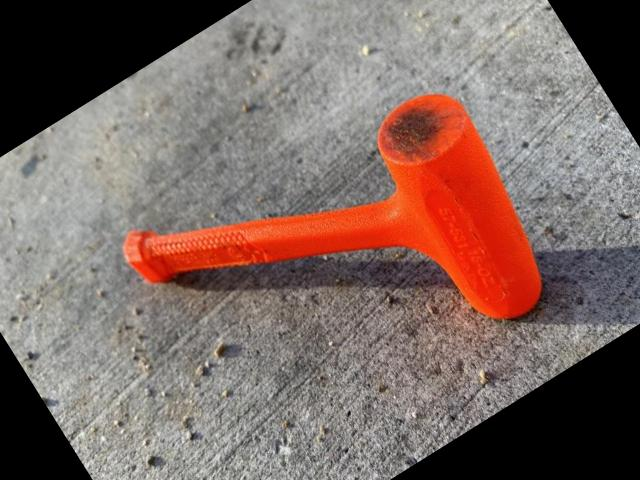hammer: (111, 41, 574, 476)
